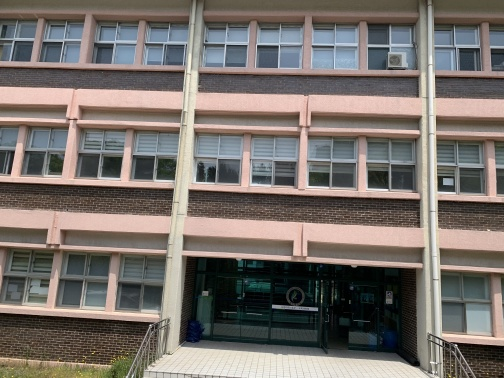College Of Education: (9, 9, 499, 365)
